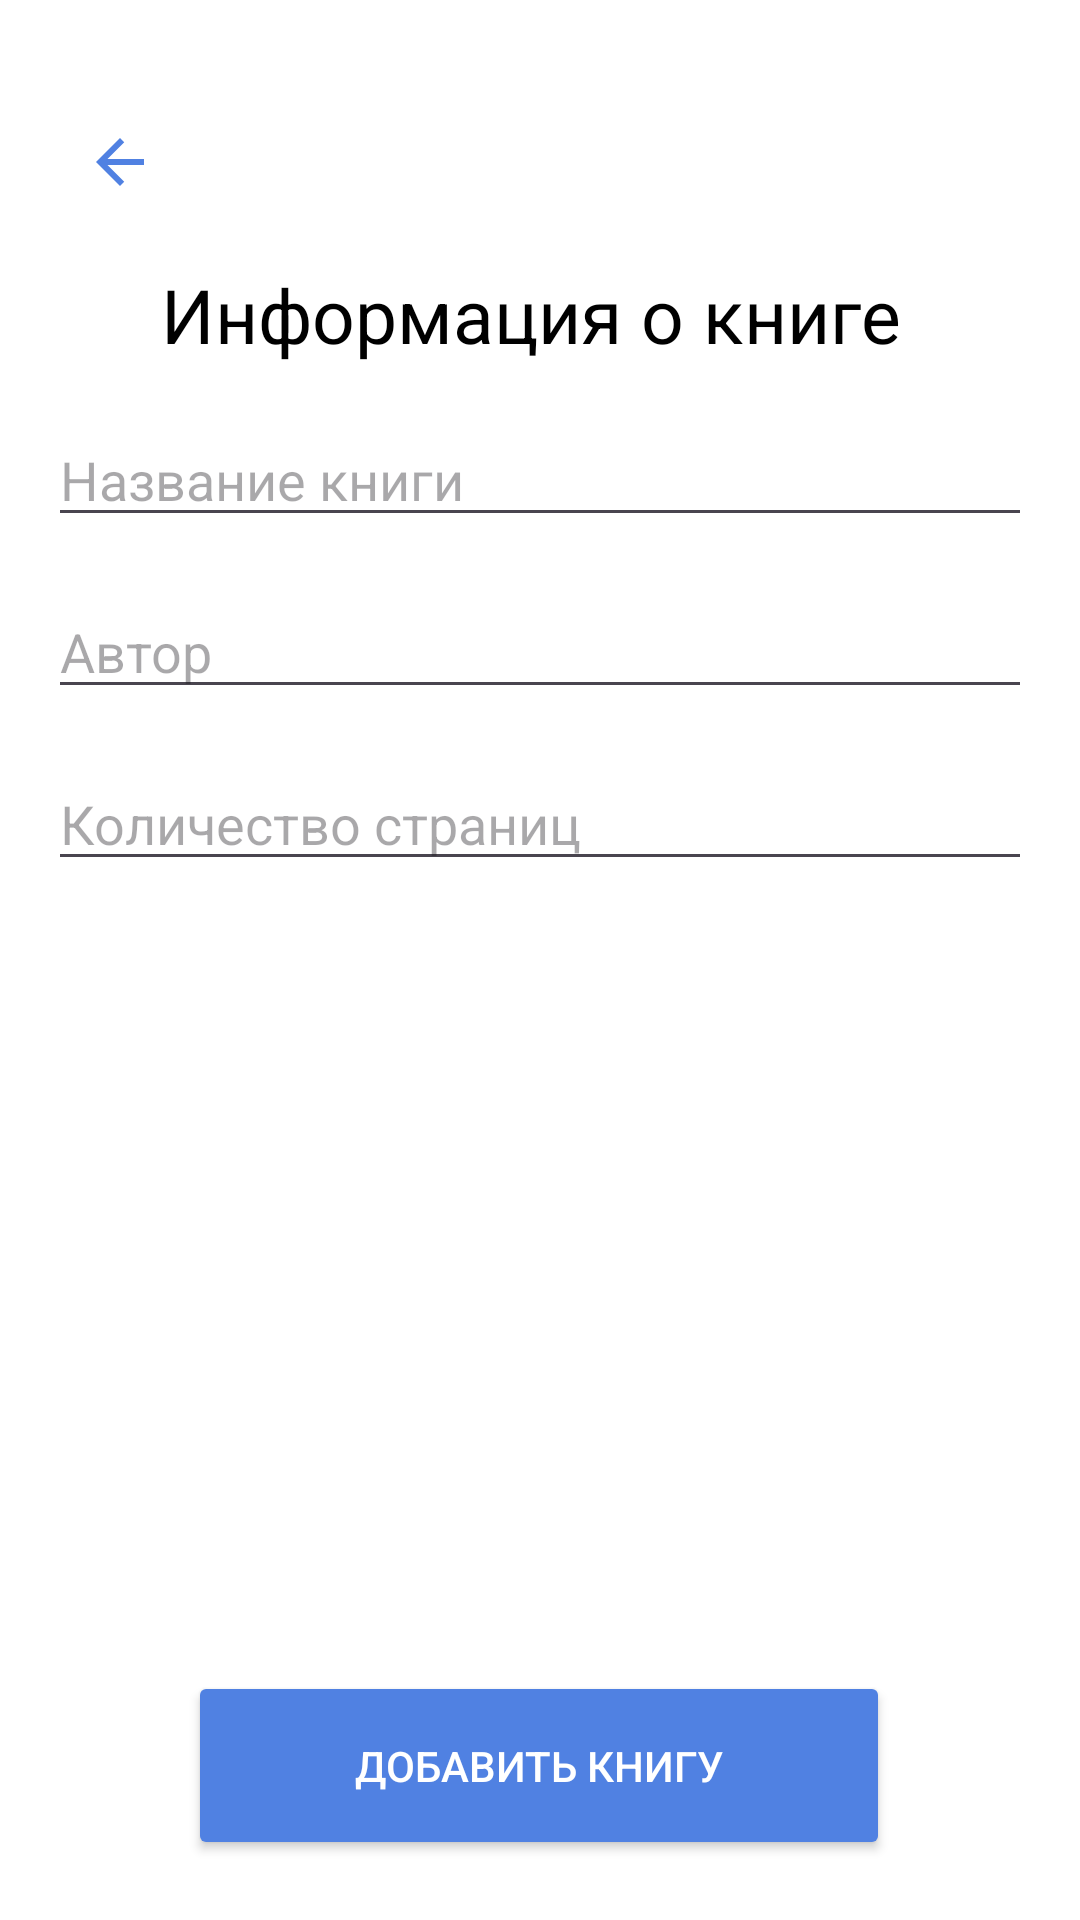

Screen size 1080w x 1920h. Icon name, then its box in pixels as box=[x1, y1, x2, y2]:
Назад: box=[96, 138, 144, 186]
